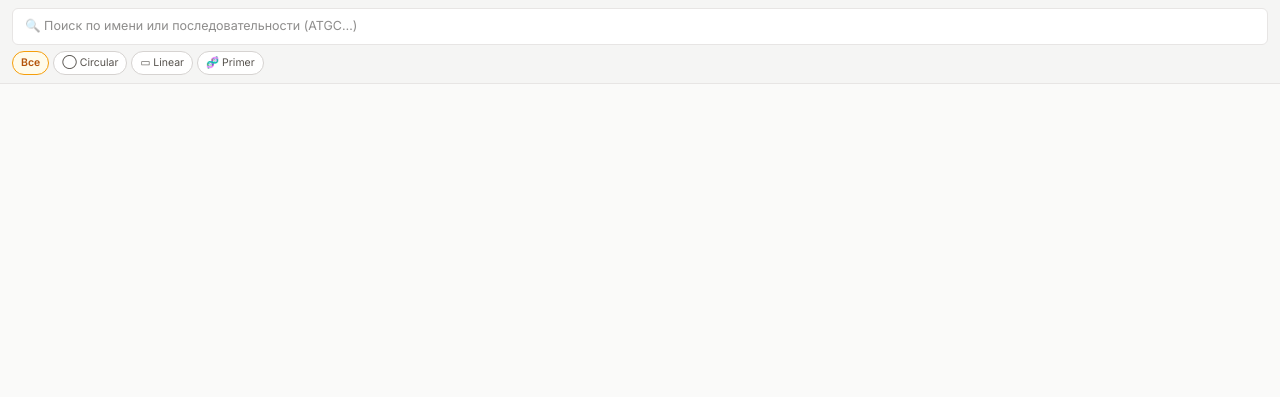
Test: LibrarySearchBar — dropdown mode (canvas) › filter pill narrows results
Focus the search field with test id "canvas-library-search-bar-input" at (640, 26), box [12,8,1268,45]
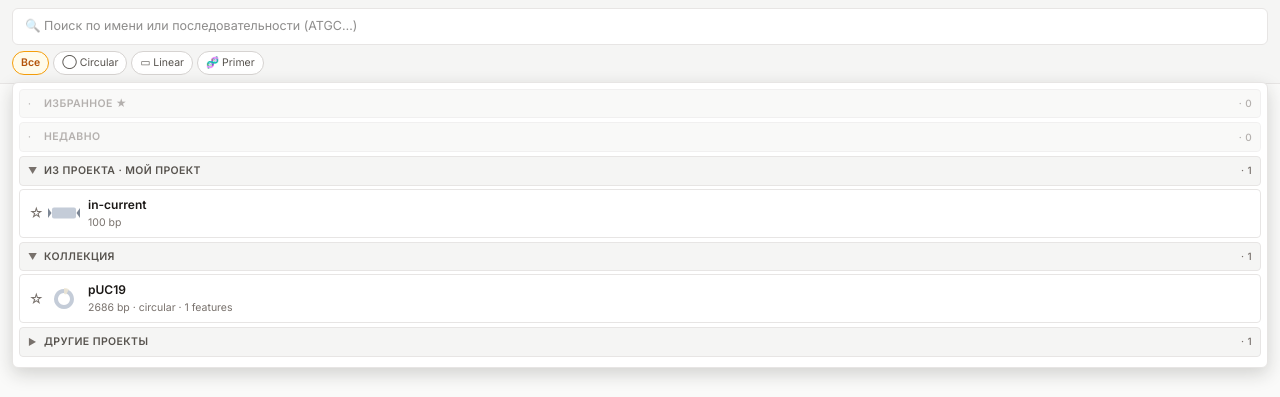
Click the button with test id "canvas-library-search-bar-filter-circular".
click(90, 63)  # box [53,51,127,75]
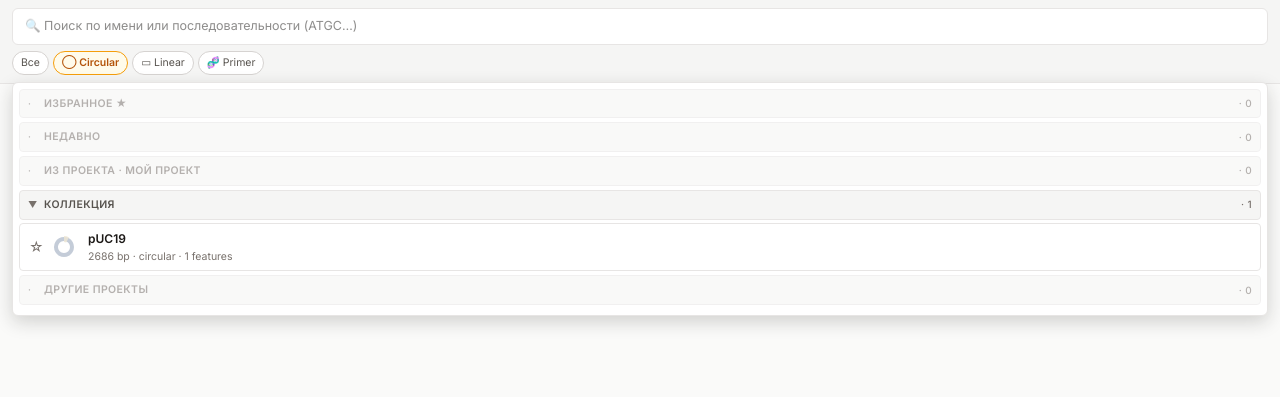
Expected: the button with test id "canvas-library-search-bar-section-loose-item-le01" is shown, [19,222,1261,271]
Expected: the button with test id "canvas-library-search-bar-section-project-item-le03" is gone
